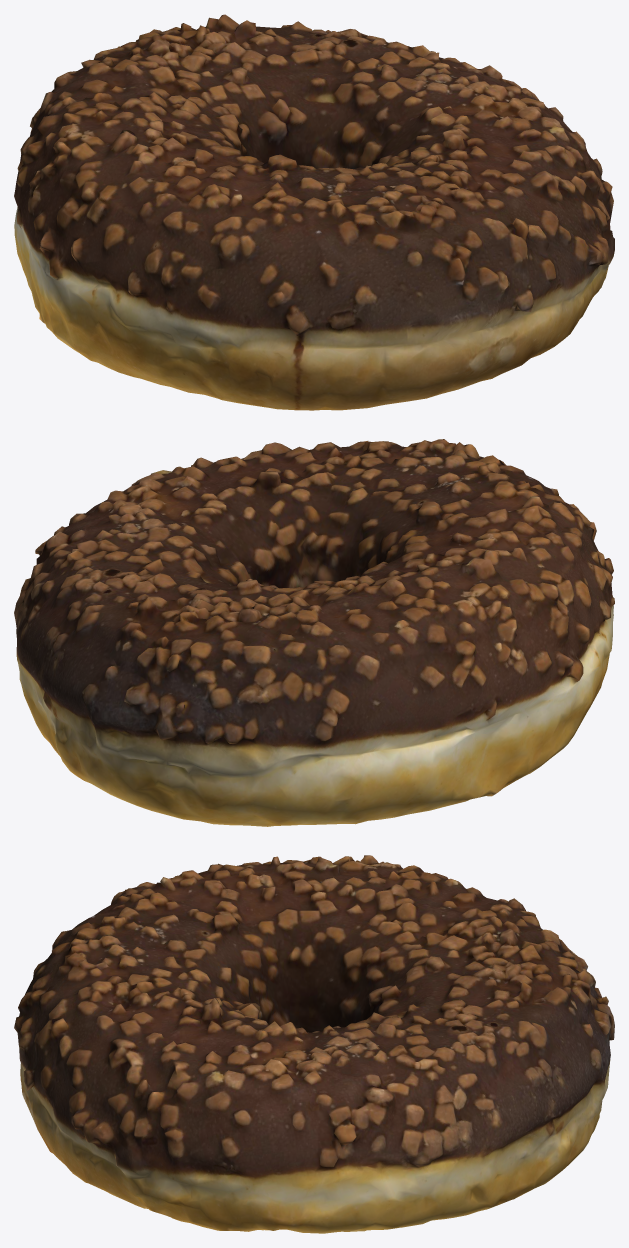
Rendered from BakeryProduct9_LOD1.gltf.
3 renders of one model, top to bottom at view 1: azimuth 30°, elevation 25°; view 2: azimuth 150°, elevation 25°; view 3: azimuth 270°, elevation 25°, orthographic. The views are drawn at different scales.
Visible parts, largest first — view 1: BakeryProduct9_LOD1; view 2: BakeryProduct9_LOD1; view 3: BakeryProduct9_LOD1.
Boxes of the visible parts, left/top/right/bottom form: BakeryProduct9_LOD1: left=14, top=14, right=614, bottom=410; BakeryProduct9_LOD1: left=14, top=439, right=614, bottom=826; BakeryProduct9_LOD1: left=14, top=855, right=614, bottom=1233.
Bounding box in the file's own units: 0.1067 × 0.0417 × 0.1121.
1 material, 1 textured.
